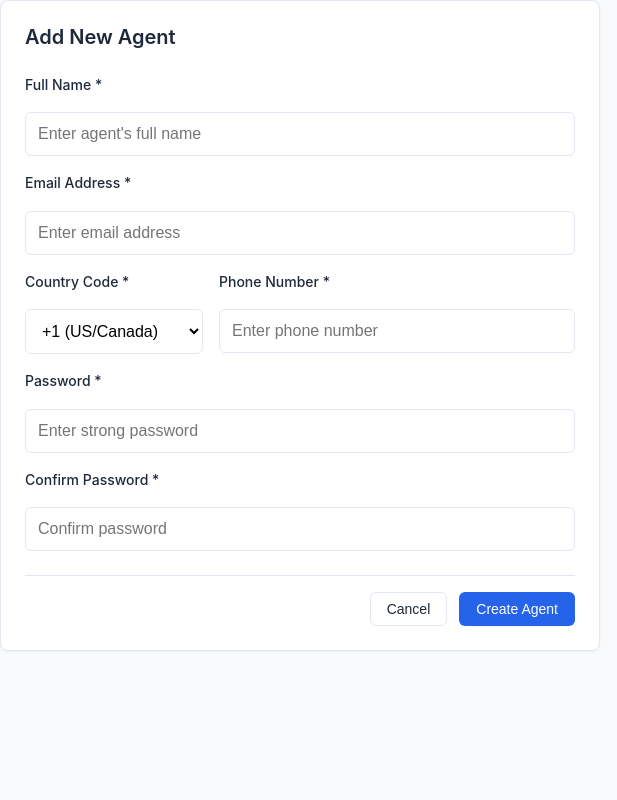
Test: AddAgent › shows validation errors for empty required fields
Click the button "Create Agent" at {"x": 517, "y": 609}, box [459,592,575,626]
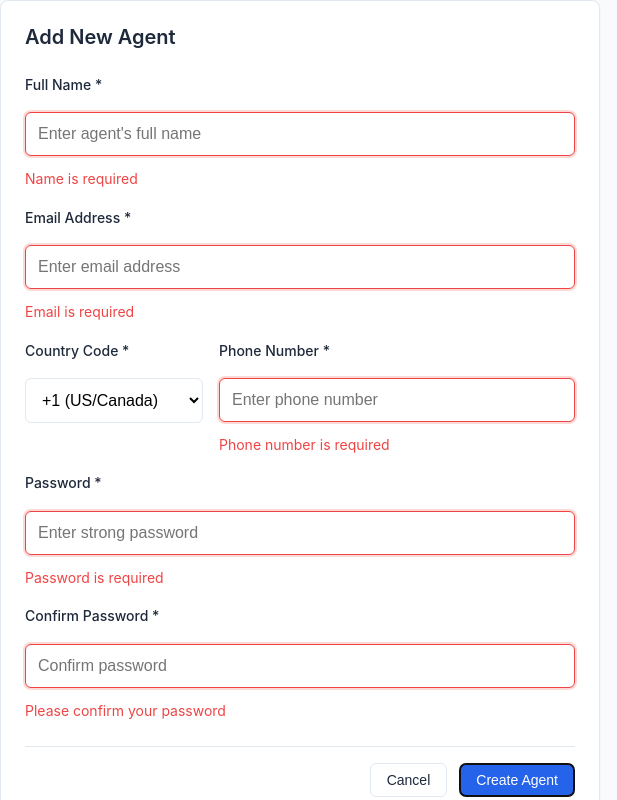
Now the text "Name is required" is shown, box [25,170,138,187]
Now the text "Email is required" is shown, box [25,303,134,320]
Now the text "Phone number is required" is shown, box [219,436,390,453]
